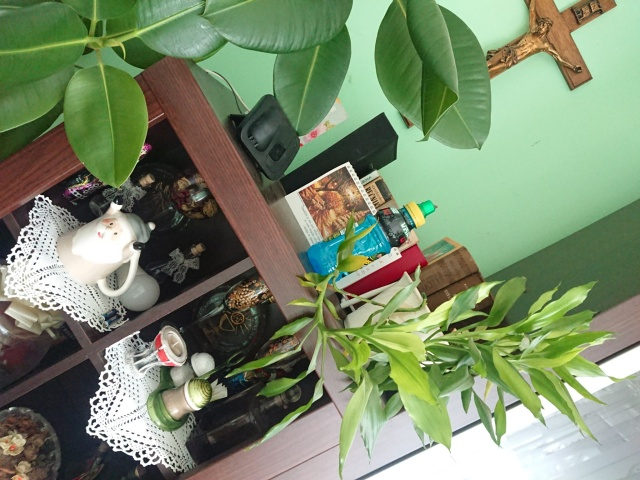Vindi Iso Sport Forest Strawberries 500mL: (305, 198, 436, 289)
